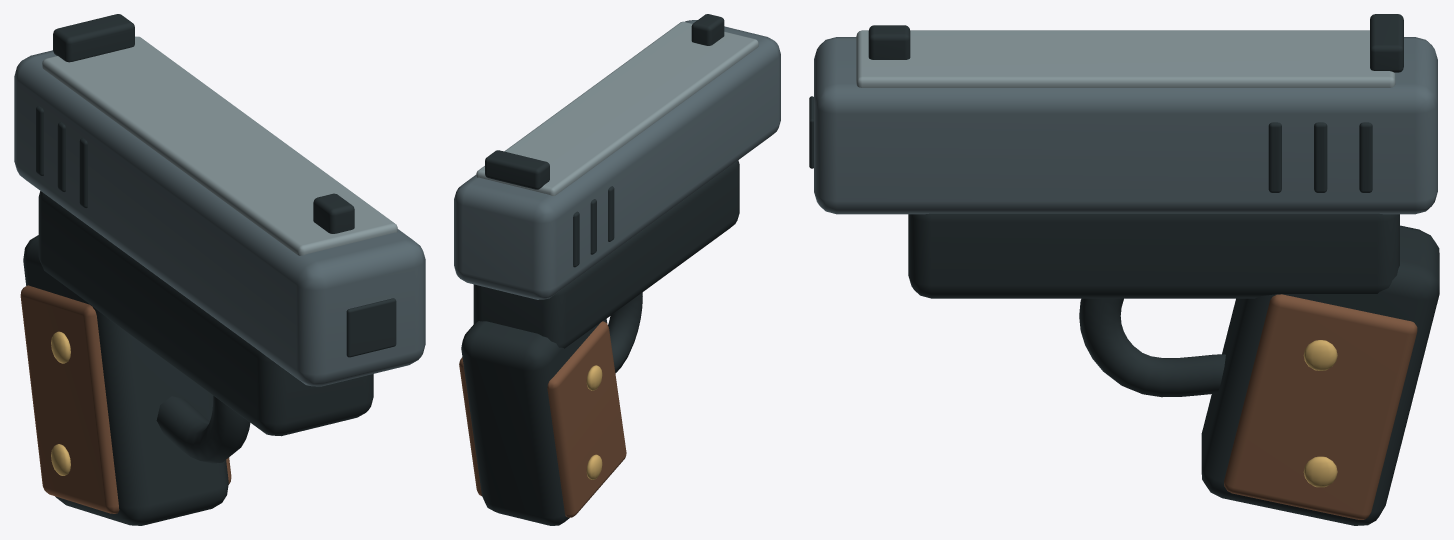
File: pistol_p8.glb
3 renders of one model, left to right at view 1: azimuth 30°, elevation 25°; view 2: azimuth 150°, elevation 25°; view 3: azimuth 270°, elevation 25°, orthographic. The views are drawn at different scales.
Visible parts, largest first — view 1: P8 slide, Slide highlight, P8 frame, Grip, Walnut grip inlay, Guard, Rear sight, Muzzle inset, Front sight, Slide detail, Slide detail.001, Slide detail.002 (+2 smaller); view 2: P8 slide, Grip, Slide highlight, P8 frame, Walnut grip inlay, Rear sight, Guard, Front sight, Walnut grip inlay.001; view 3: P8 slide, P8 frame, Walnut grip inlay.001, Slide highlight, Grip, Guard, Rear sight, Front sight, Slide detail.005, Slide detail.003, Slide detail.004, Grip stud.002 (+1 smaller).
Boxes of the visible parts, x1,y1,x2,y2 form: P8 slide: (14, 50, 425, 386); Slide highlight: (42, 36, 397, 255); P8 frame: (38, 191, 373, 436); Grip: (23, 235, 228, 525); Walnut grip inlay: (20, 285, 119, 513); Guard: (156, 395, 250, 463); Rear sight: (53, 14, 134, 62); Muzzle inset: (346, 298, 396, 357); Front sight: (313, 193, 354, 233); Slide detail: (79, 138, 87, 208); Slide detail.001: (57, 122, 65, 192); Slide detail.002: (36, 106, 43, 175); P8 slide: (454, 20, 780, 299); Grip: (461, 318, 607, 525); Slide highlight: (476, 21, 758, 195); P8 frame: (473, 160, 739, 348); Walnut grip inlay: (547, 321, 626, 517); Rear sight: (485, 150, 549, 189); Guard: (608, 292, 642, 373); Front sight: (691, 14, 724, 45); Walnut grip inlay.001: (459, 357, 481, 495); P8 slide: (814, 37, 1437, 214); P8 frame: (908, 213, 1399, 298); Walnut grip inlay.001: (1224, 294, 1417, 519); Slide highlight: (856, 30, 1395, 87); Grip: (1201, 225, 1439, 525); Guard: (1079, 298, 1225, 397); Rear sight: (1370, 14, 1403, 72); Front sight: (868, 25, 910, 59); Slide detail.005: (1359, 122, 1372, 192); Slide detail.003: (1268, 122, 1281, 192); Slide detail.004: (1314, 122, 1327, 192); Grip stud.002: (1303, 456, 1337, 487).
Size of the model in its own units: 0.09 by 0.2786 by 0.3335.
